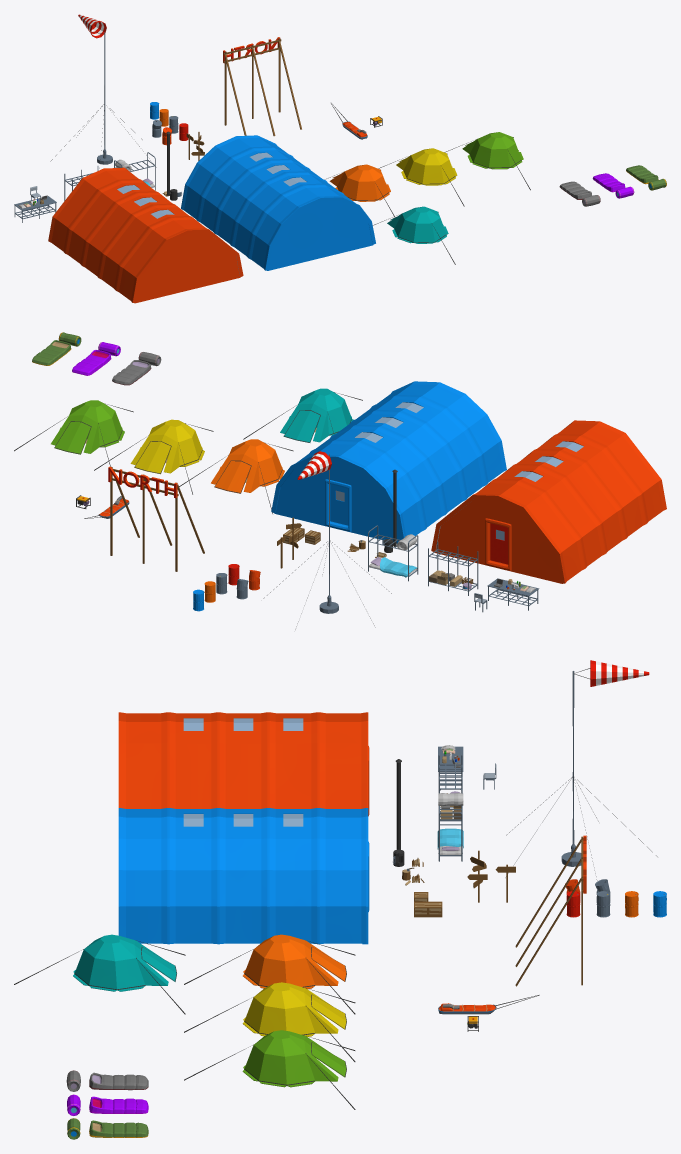
Rendered from polar_station.fbx.
The picture shows the model from 3 angles, top to bottom: view 1: azimuth 30°, elevation 25°; view 2: azimuth 150°, elevation 25°; view 3: azimuth 270°, elevation 25°; orthographic projection. The views are drawn at different scales.
Parts seen in each view (by area): view 1: tent, tent_2, north, tent_5, tent_4, tent_6, tent_3, table, flag_body; view 2: tent, tent_2, tent_4, tent_5, tent_3, tent_6, north, door_2, door, cupboard, table, sleeping_bag_1 (+5 smaller); view 3: tent, tent_2, tent_5, tent_6, tent_3, tent_4, north, flag, sleeping_bag_3, sleeping_bag_2, sleeping_bag_1, flag_body.
Boxes of the visible parts, x1,y1,x2,y2 form: tent: [181, 135, 375, 270]; tent_2: [48, 167, 243, 303]; north: [223, 37, 301, 136]; tent_5: [444, 132, 530, 190]; tent_4: [378, 148, 464, 206]; tent_6: [373, 206, 455, 264]; tent_3: [325, 164, 395, 217]; table: [14, 196, 56, 222]; flag_body: [50, 32, 156, 168]; tent: [271, 381, 506, 543]; tent_2: [431, 420, 666, 583]; tent_4: [94, 419, 213, 494]; tent_5: [14, 400, 133, 466]; tent_3: [179, 439, 293, 513]; tent_6: [243, 388, 362, 442]; north: [108, 466, 204, 571]; door_2: [490, 523, 508, 564]; door: [330, 484, 348, 525]; cupboard: [428, 541, 478, 595]; table: [487, 578, 539, 610]; sleeping_bag_1: [112, 360, 151, 385]; tent: [118, 808, 369, 944]; tent_2: [118, 712, 369, 816]; tent_5: [184, 1030, 355, 1109]; tent_6: [14, 934, 185, 1014]; tent_3: [184, 934, 355, 1014]; tent_4: [184, 982, 355, 1061]; north: [515, 835, 586, 986]; flag: [574, 660, 649, 686]; sleeping_bag_3: [89, 1120, 148, 1137]; sleeping_bag_2: [89, 1096, 148, 1113]; sleeping_bag_1: [89, 1072, 148, 1090]; flag_body: [505, 671, 657, 880].
Bounding box in the file's own units: 31.36 × 8.05 × 23.07.
